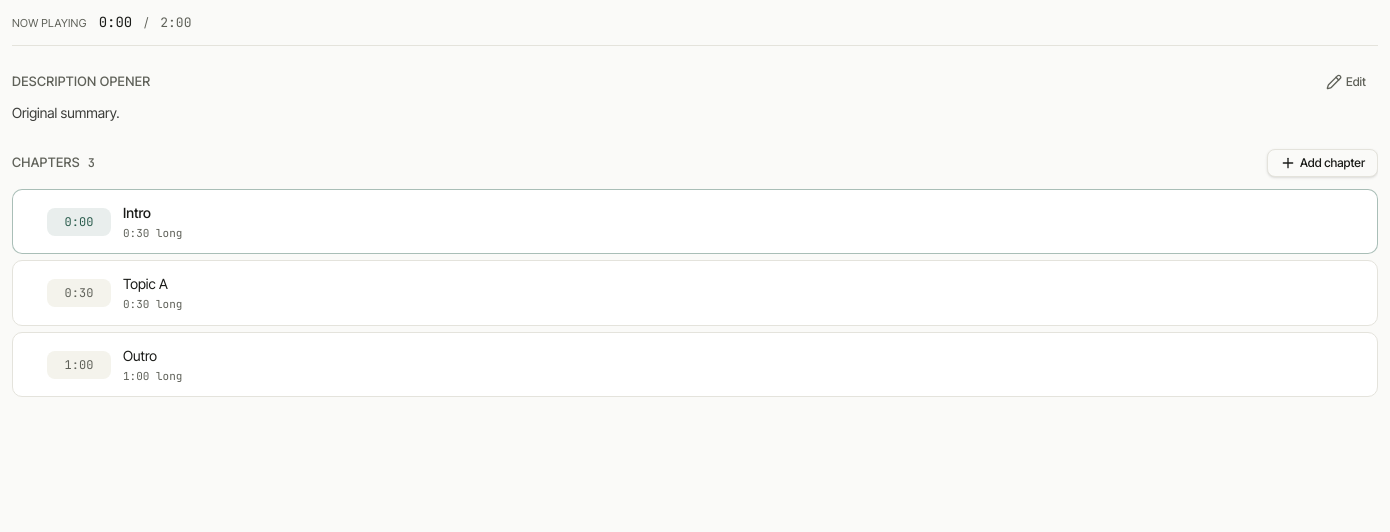
Test: ChaptersReview › does not enable Save for an empty summary edit
Click the button "Edit" at x=1346, y=82, box [1314, 70, 1378, 94]
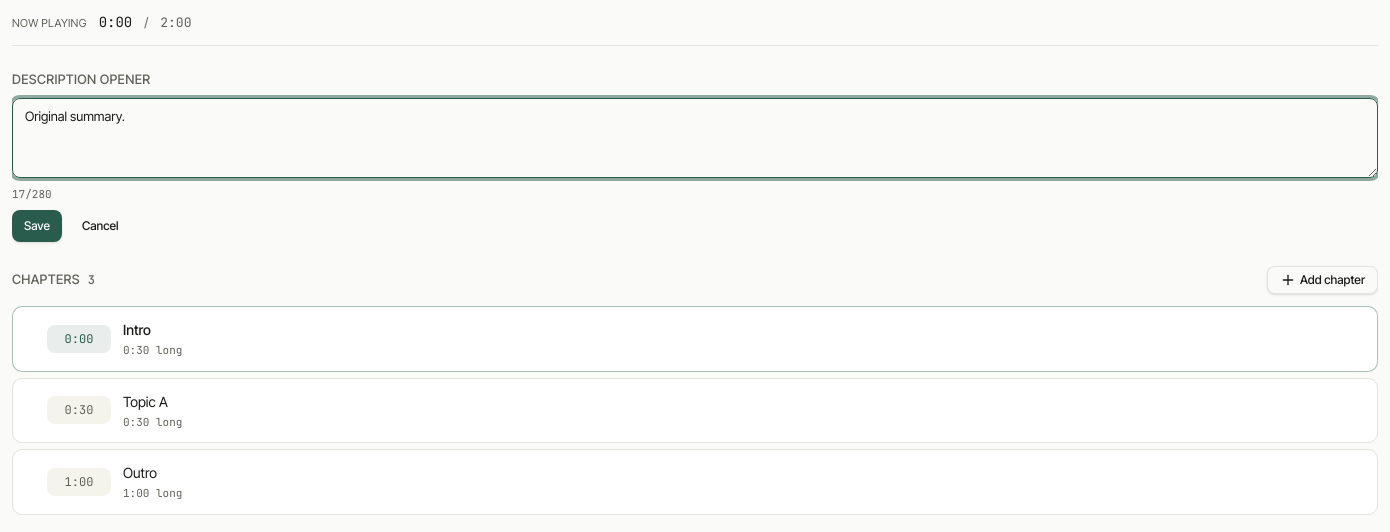
Clear the text box at x=695, y=138, box [12, 98, 1378, 178]
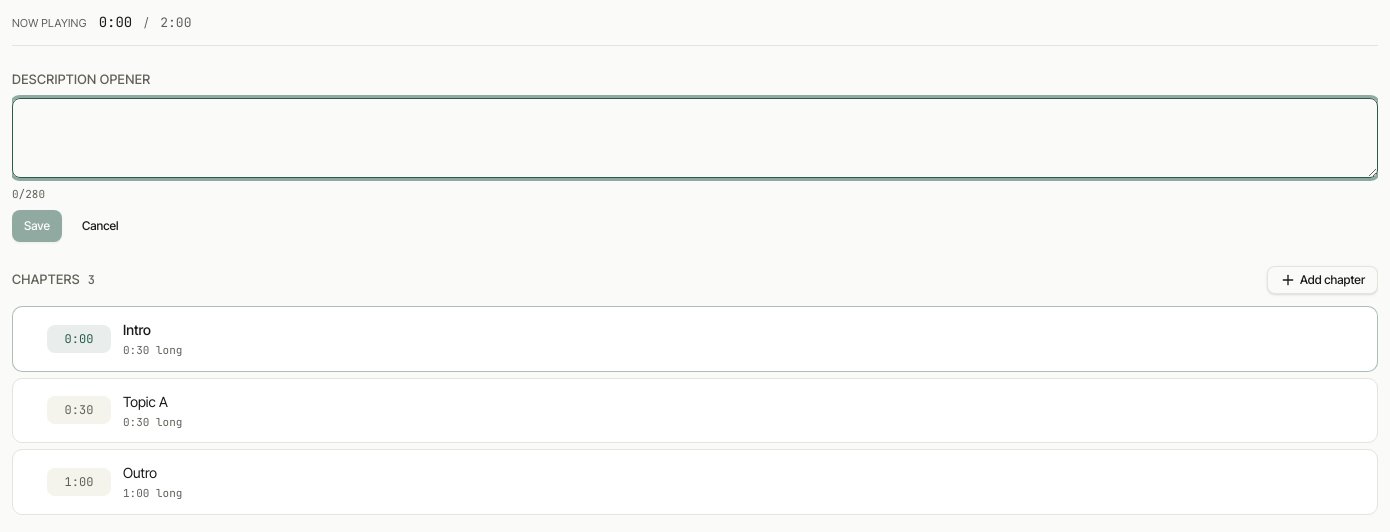
Check: the button "Save" is disabled, box [12, 210, 62, 242]
